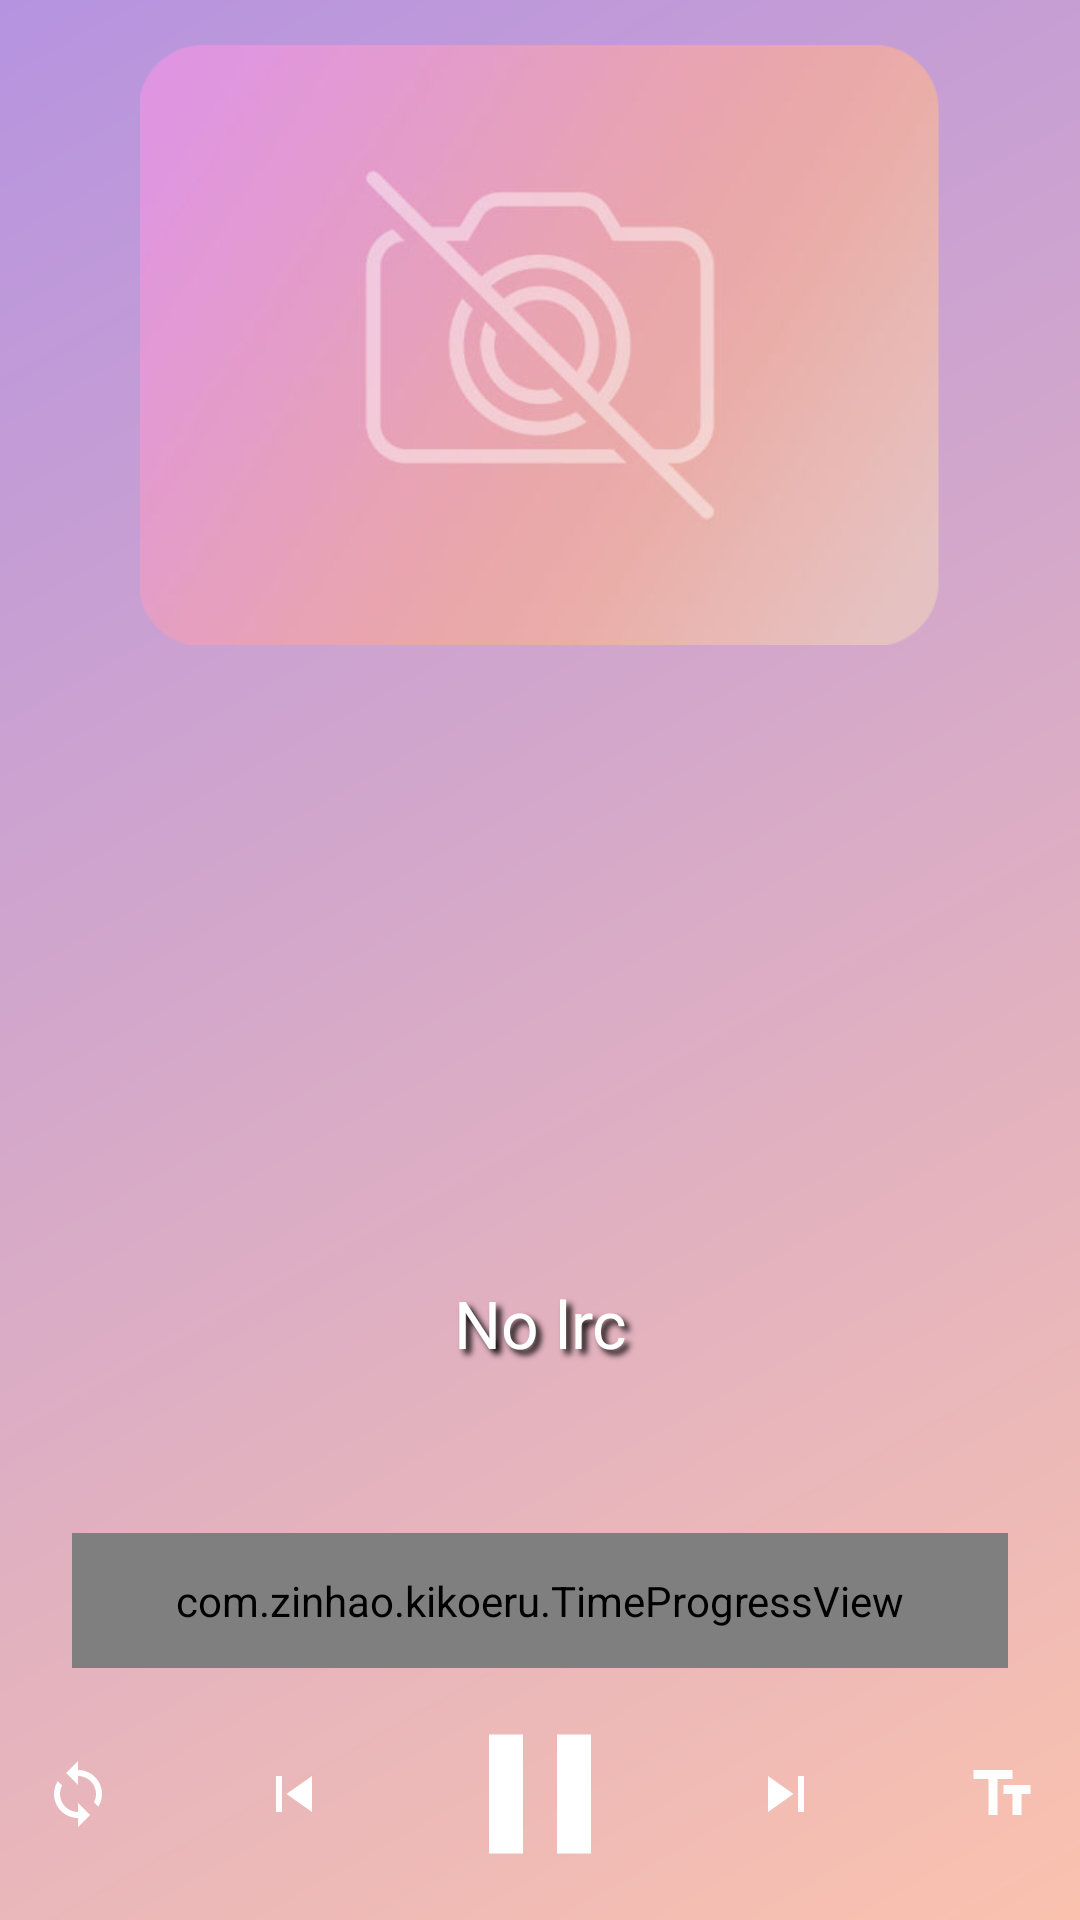

Locate icon controls on the screen. Image size 1080w x 1920h, boxes as bbox=[x1, y1, x2, y2].
loop: bbox=[54, 1761, 102, 1827]
pause: bbox=[489, 1734, 591, 1854]
skip next: bbox=[768, 1776, 804, 1812]
skip previous: bbox=[276, 1776, 312, 1812]
text fields: bbox=[973, 1770, 1031, 1815]
